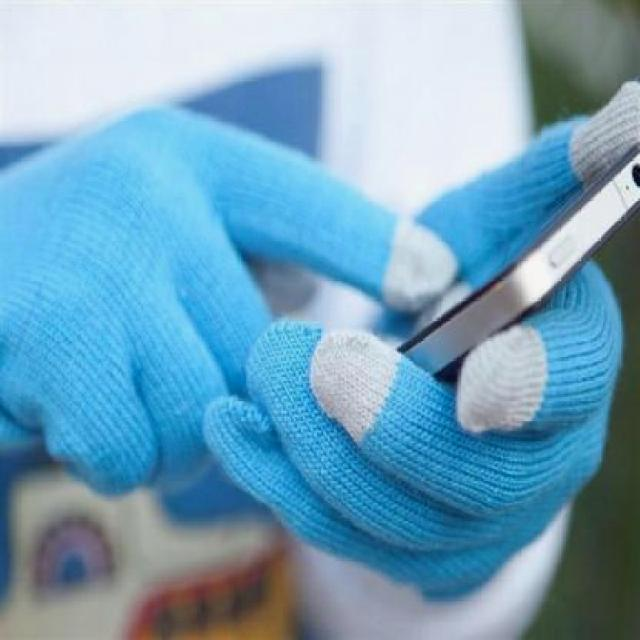hand_glove: (201, 81, 639, 590), (0, 100, 457, 491)
